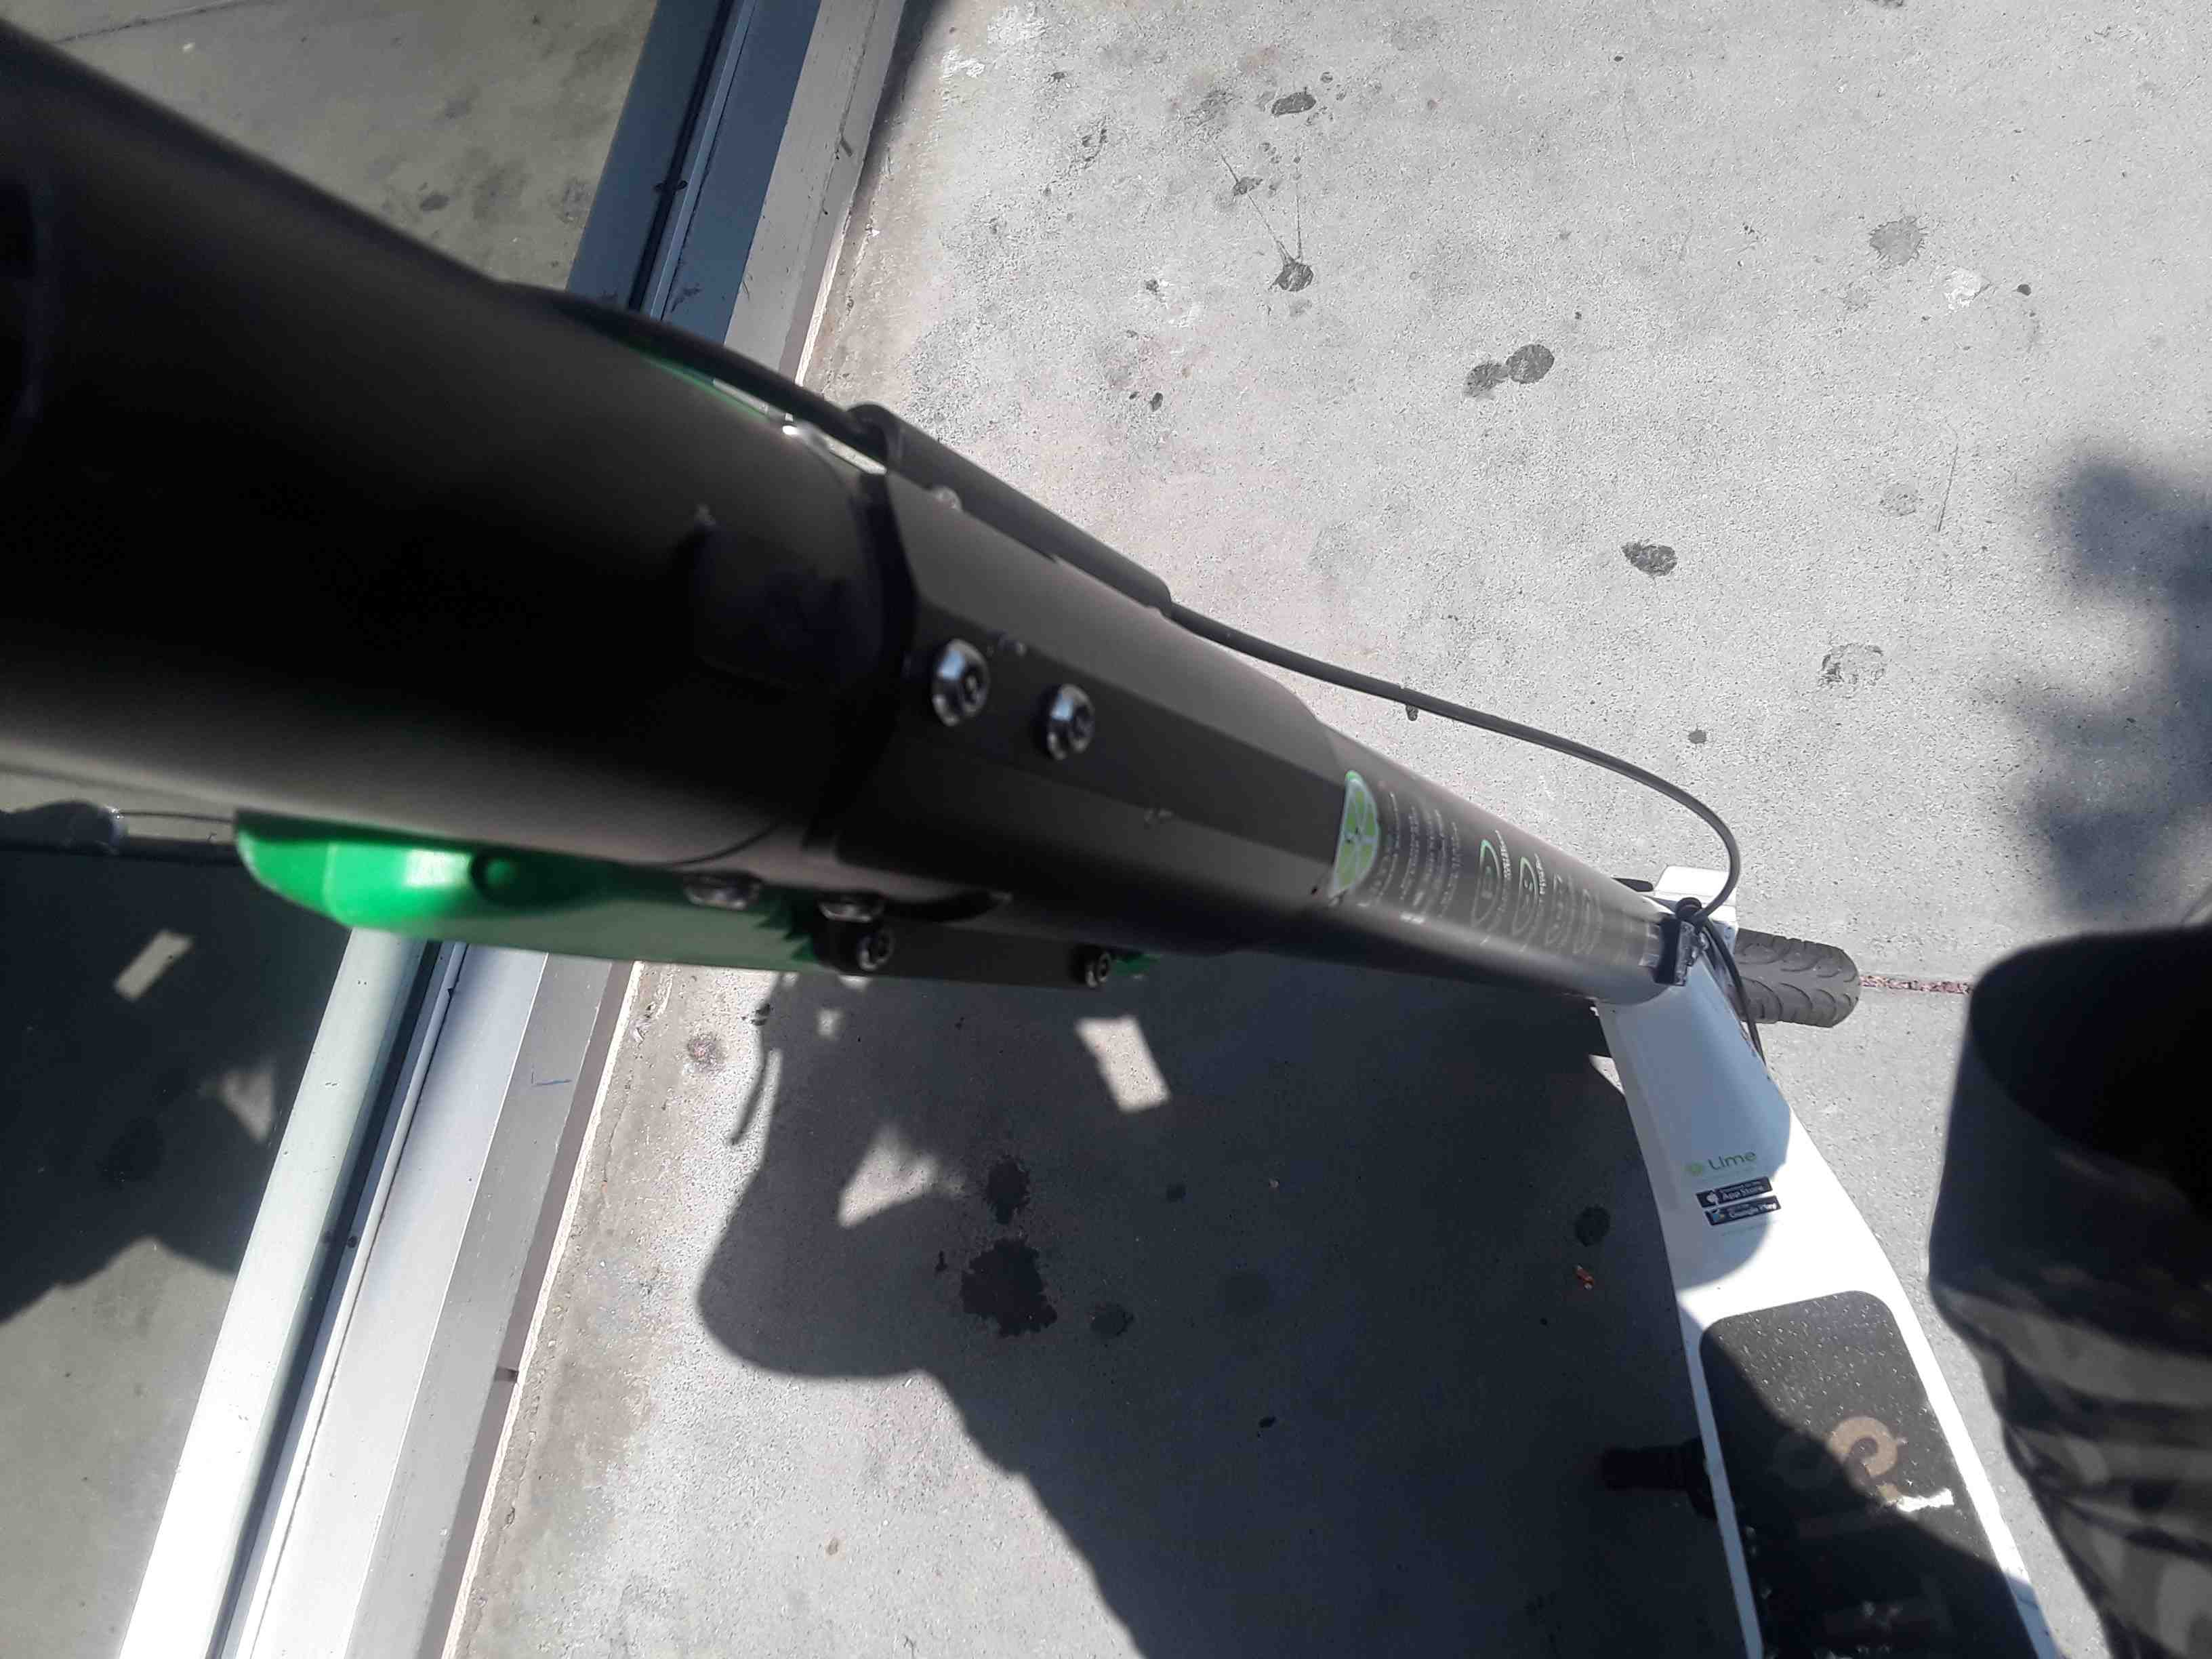scooter: (94, 401, 2156, 1631)
